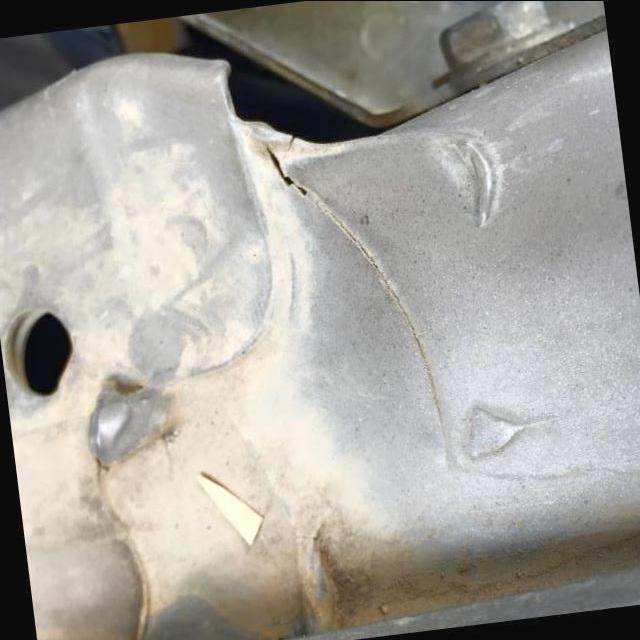defect: (262, 140, 454, 484), (284, 135, 297, 154)
